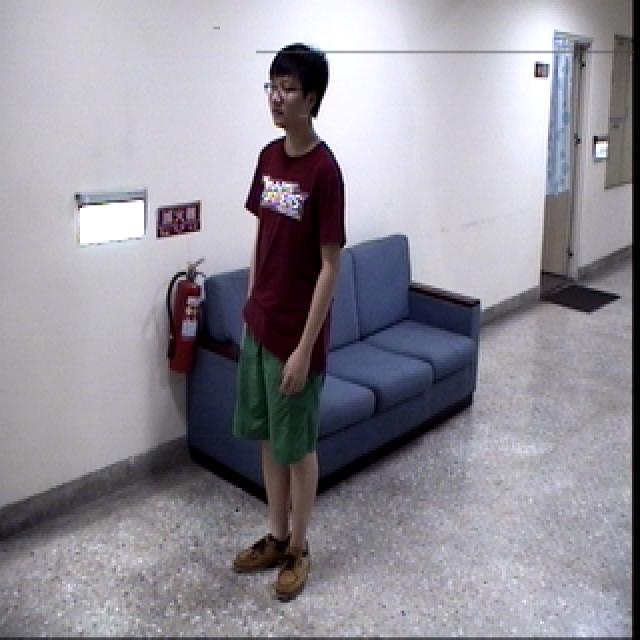stand: (222, 32, 352, 609)
